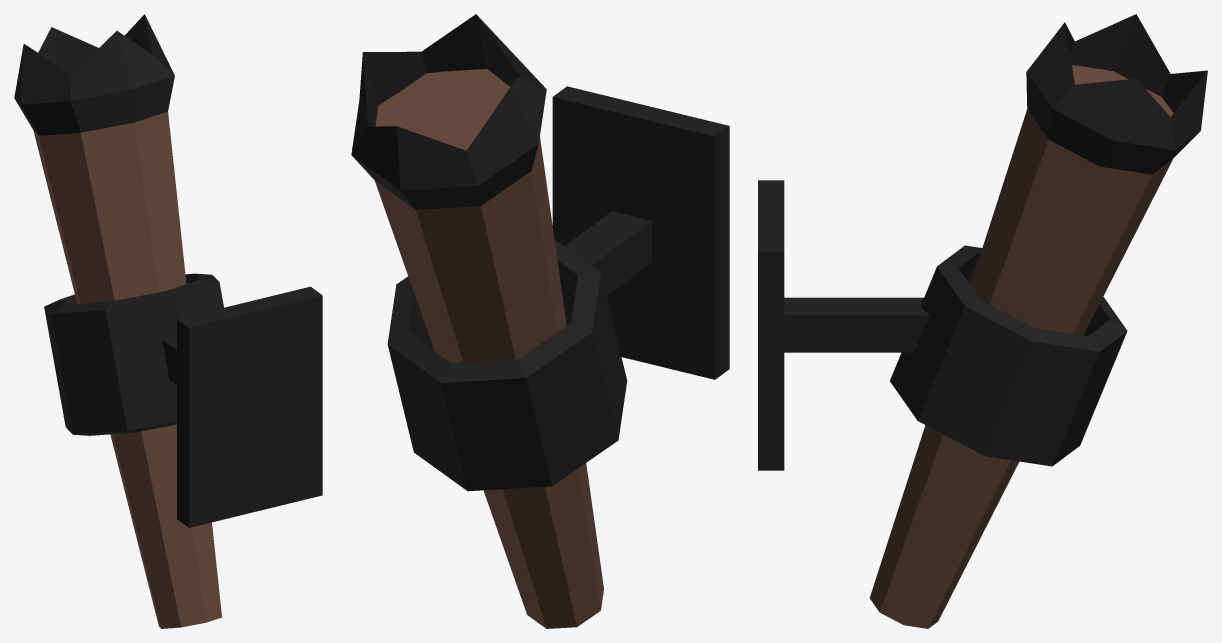
Rendered from light.obj.
The picture shows the model from 3 angles, left to right: view 1: azimuth 30°, elevation 25°; view 2: azimuth 150°, elevation 25°; view 3: azimuth 270°, elevation 25°; orthographic projection. The views are drawn at different scales.
Visible parts, largest first — view 1: Cube; view 2: Cube; view 3: Cube.
Boxes of the visible parts, box(x1,y1,x2,y2) form: Cube: box(14, 14, 322, 628); Cube: box(351, 14, 729, 628); Cube: box(758, 14, 1207, 628).
Bounding box in the file's own units: 1.01 × 3.27 × 2.23.
